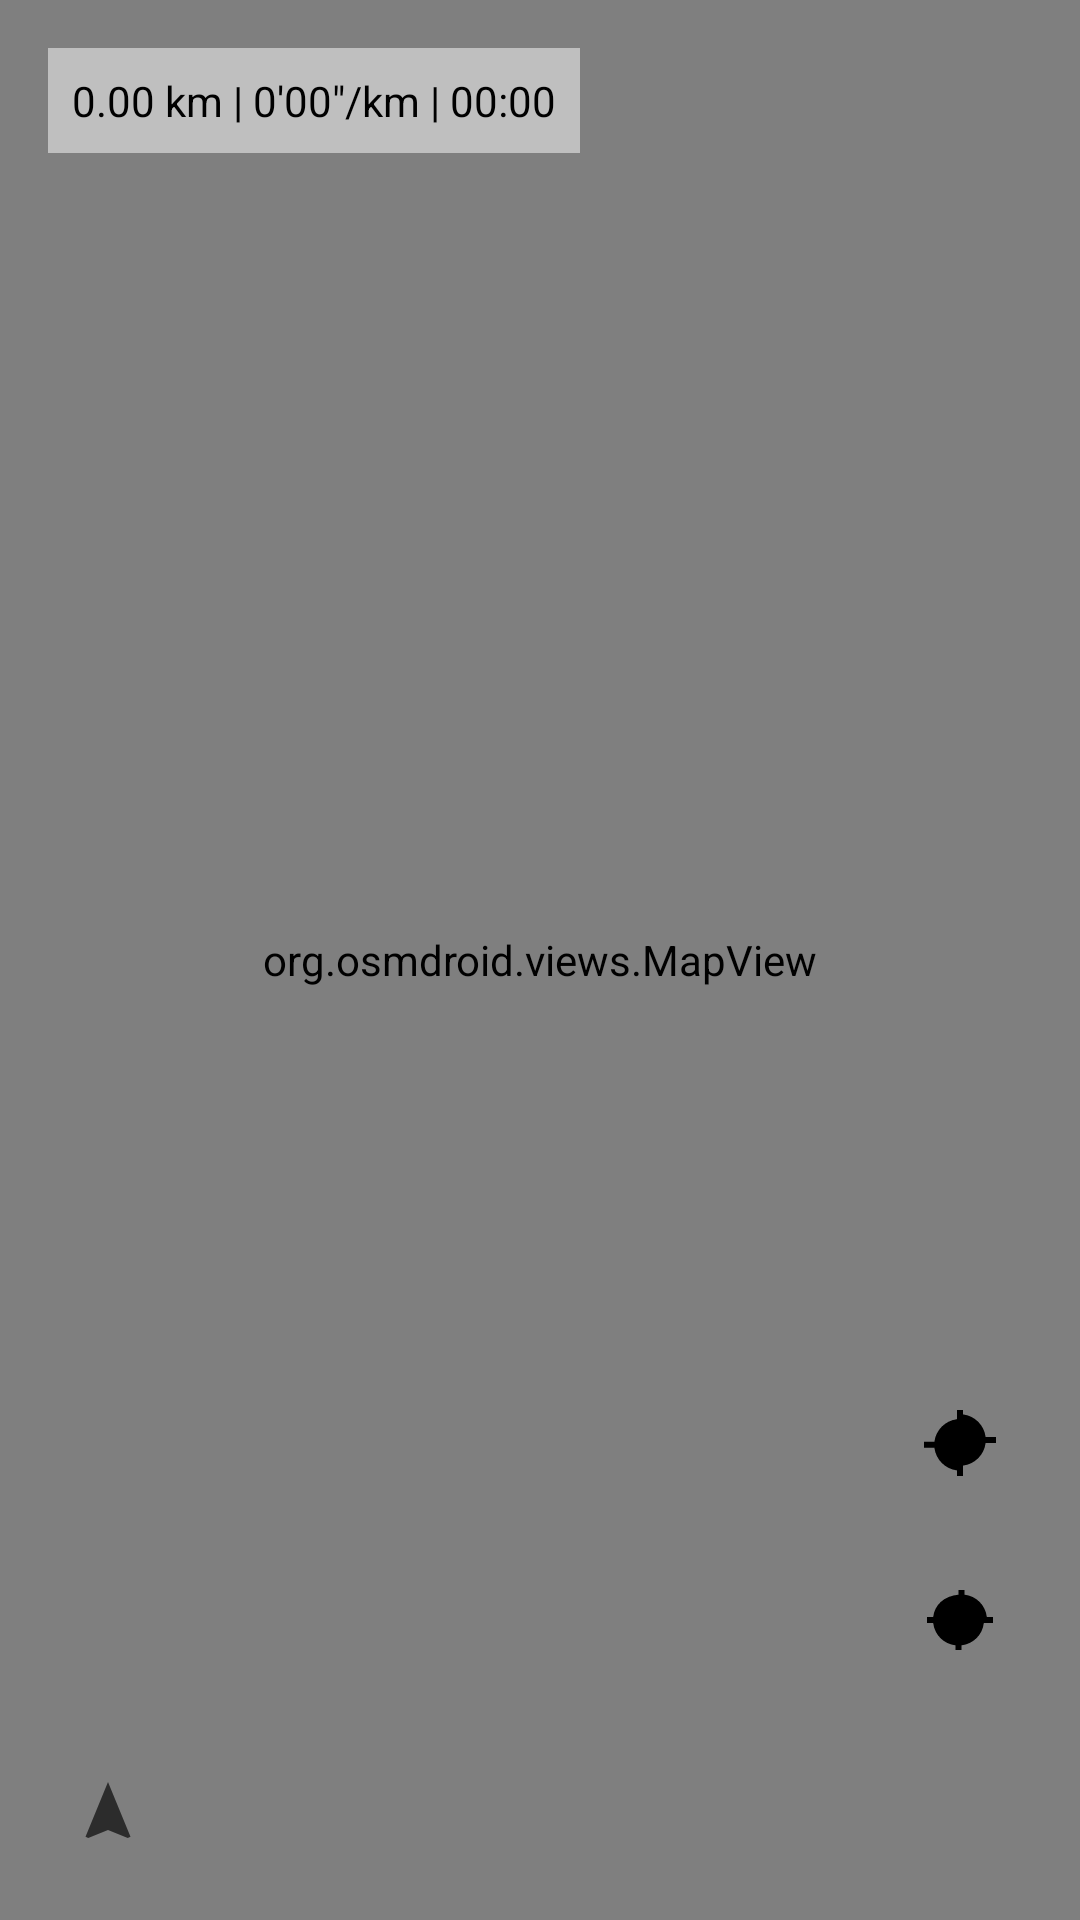

Locate icon controls on the screen. Image size 1080w x 1920h, boxes as {"x1": x1, "y1": y1, "x2": x2, "y2": y2}.
My location: {"x1": 924, "y1": 1410, "x2": 996, "y2": 1476}
Re-center: {"x1": 927, "y1": 1590, "x2": 993, "y2": 1650}
